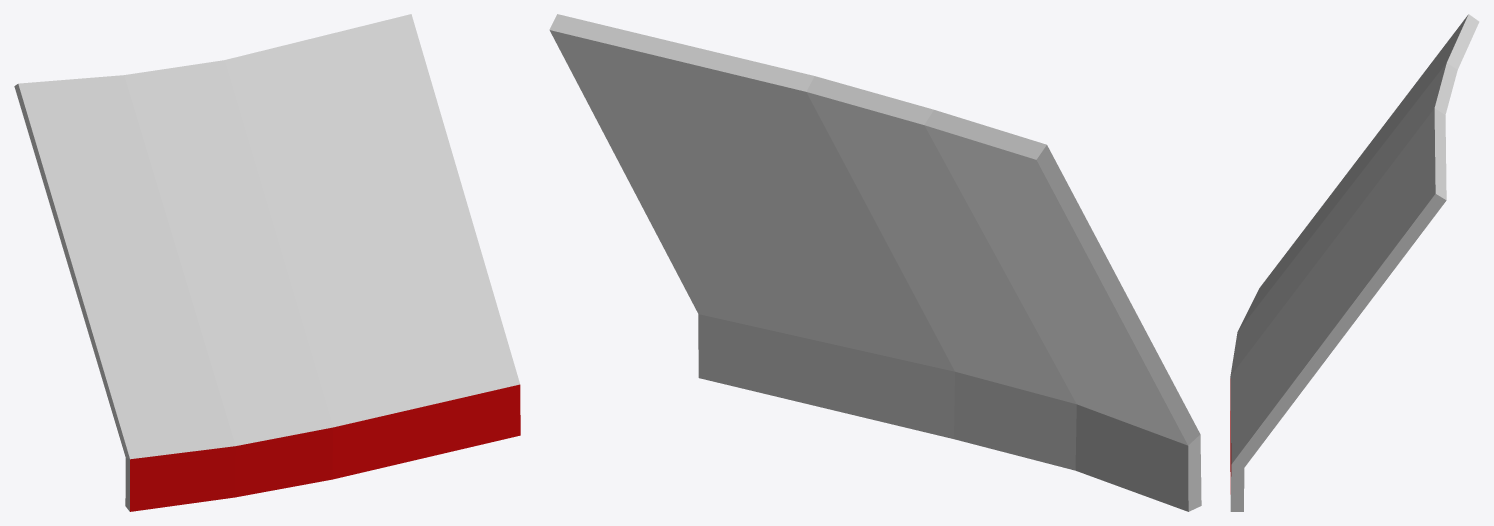
File: SB Side Hatch anim.fbx
The picture shows the model from 3 angles, left to right: view 1: azimuth 30°, elevation 25°; view 2: azimuth 150°, elevation 25°; view 3: azimuth 270°, elevation 25°; orthographic projection. The views are drawn at different scales.
Parts seen in each view (by area): view 1: SB Side Hatch Ani; view 2: SB Side Hatch Ani; view 3: SB Side Hatch Ani.
Boxes of the visible parts, x1,y1,x2,y2 form: SB Side Hatch Ani: (14,14,520,511); SB Side Hatch Ani: (549,14,1201,511); SB Side Hatch Ani: (1230,14,1479,511).
Bounding box in the file's own units: 152 × 135 × 93.2.
